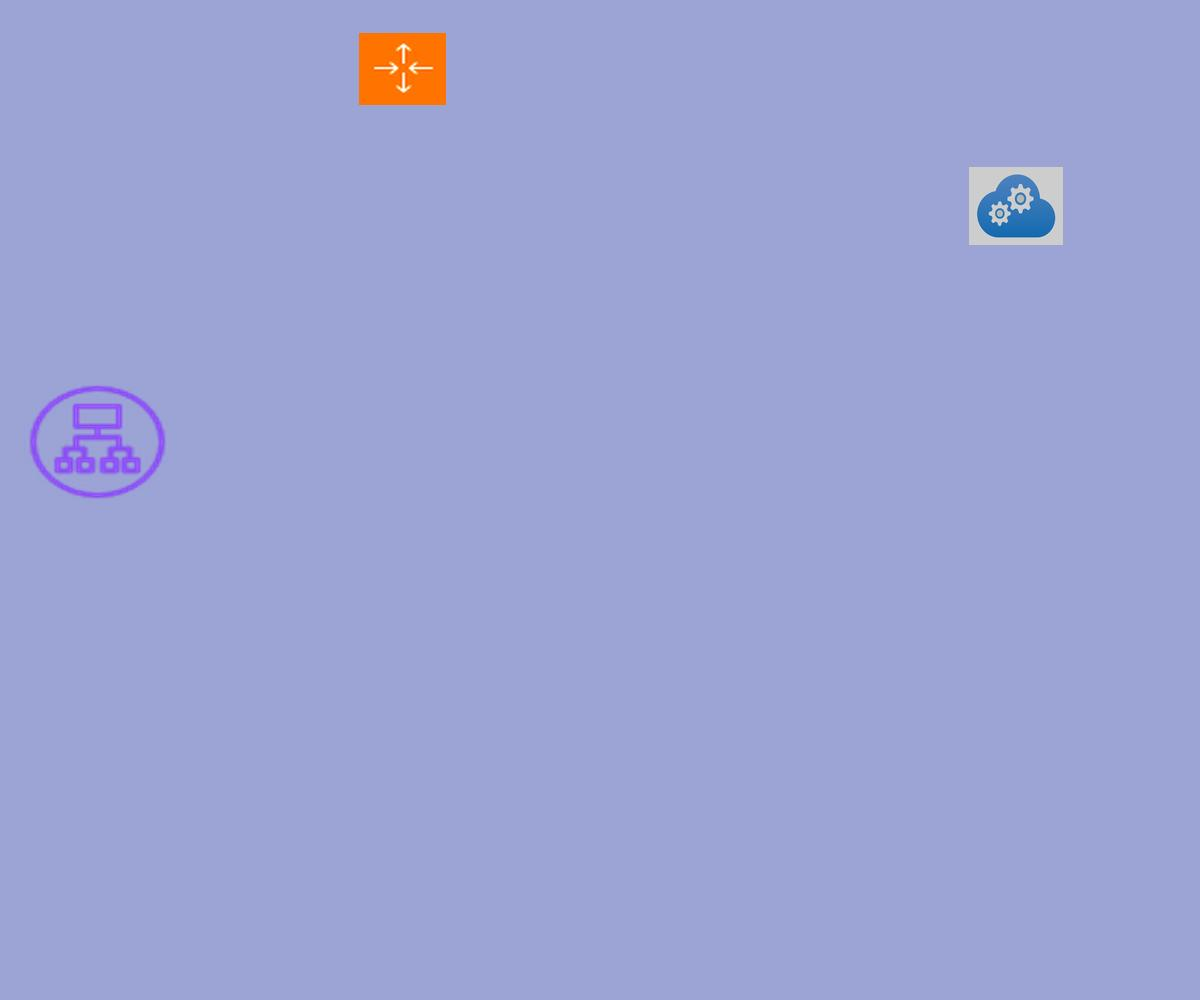AWS-Res_Elastic-Load-Balancing_Application-Load-Balancer: (24, 381, 171, 503)
AWS-Scaling-group: (359, 33, 446, 105)
Azure_cloud_services: (969, 167, 1063, 245)
